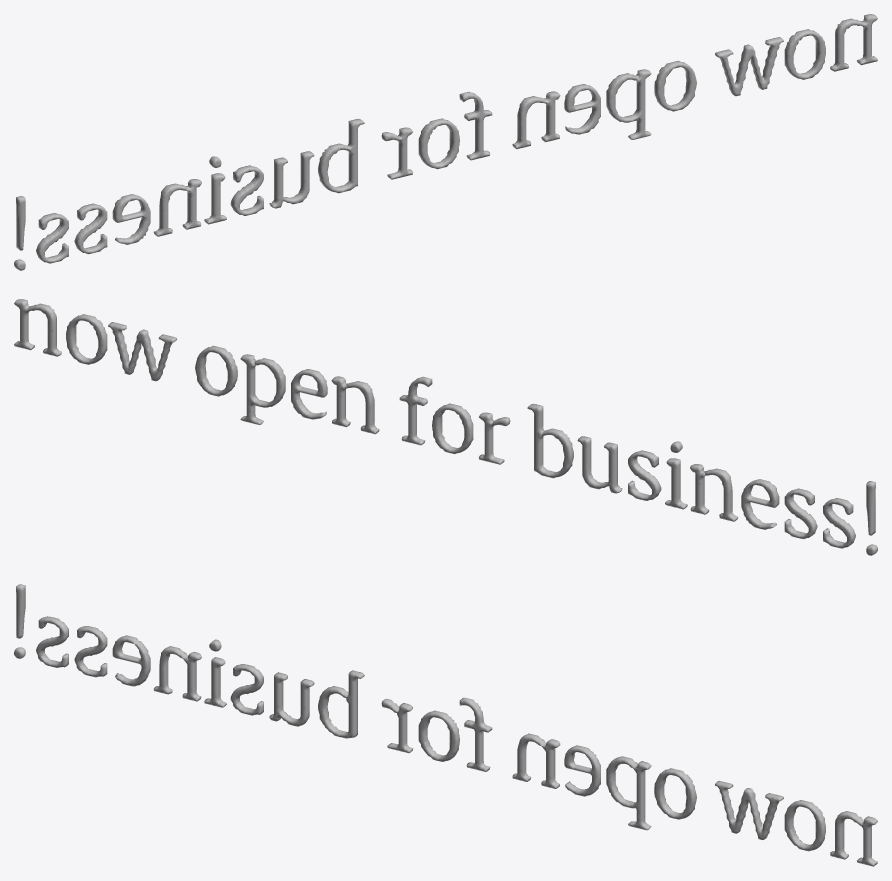
The model's file is now_open.glb.
3 views of the same model, one above another, from view 1: azimuth 30°, elevation 25°; view 2: azimuth 150°, elevation 25°; view 3: azimuth 330°, elevation 25° (orthographic).
Parts seen in each view (by area): view 1: model_0; view 2: model_0; view 3: model_0.
Boxes of the visible parts, x1,y1,x2,y2 form: model_0: [14, 14, 877, 270]; model_0: [14, 299, 877, 555]; model_0: [14, 584, 877, 866].
Bounding box in the file's own units: 499 × 50.55 × 4.34.
1 material, 1 textured.
